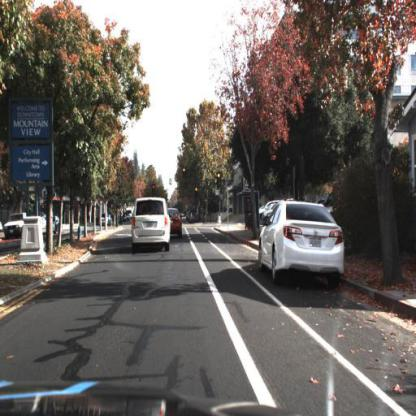car: (255, 195, 347, 291), (130, 194, 174, 256), (3, 213, 27, 243), (168, 205, 183, 241), (46, 213, 63, 236), (30, 215, 45, 237)
trafficLight-Red: (215, 171, 223, 194), (181, 167, 188, 184), (193, 184, 201, 197), (217, 171, 222, 186), (182, 167, 187, 180), (195, 187, 200, 200)
trafficLight-RedLeft: (151, 182, 159, 194), (152, 184, 157, 197)
